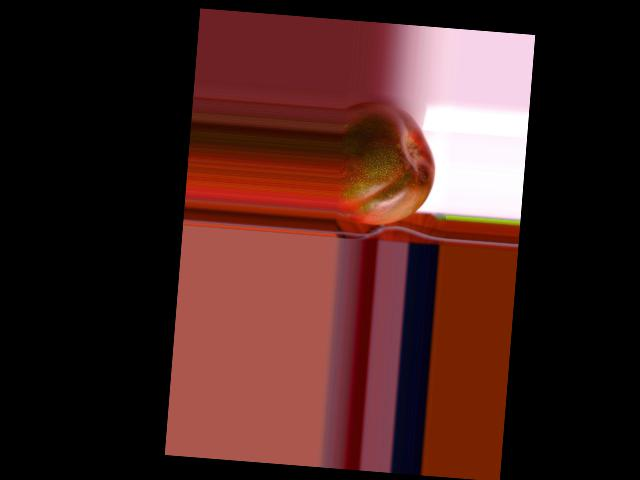tomato: (335, 100, 439, 229)
